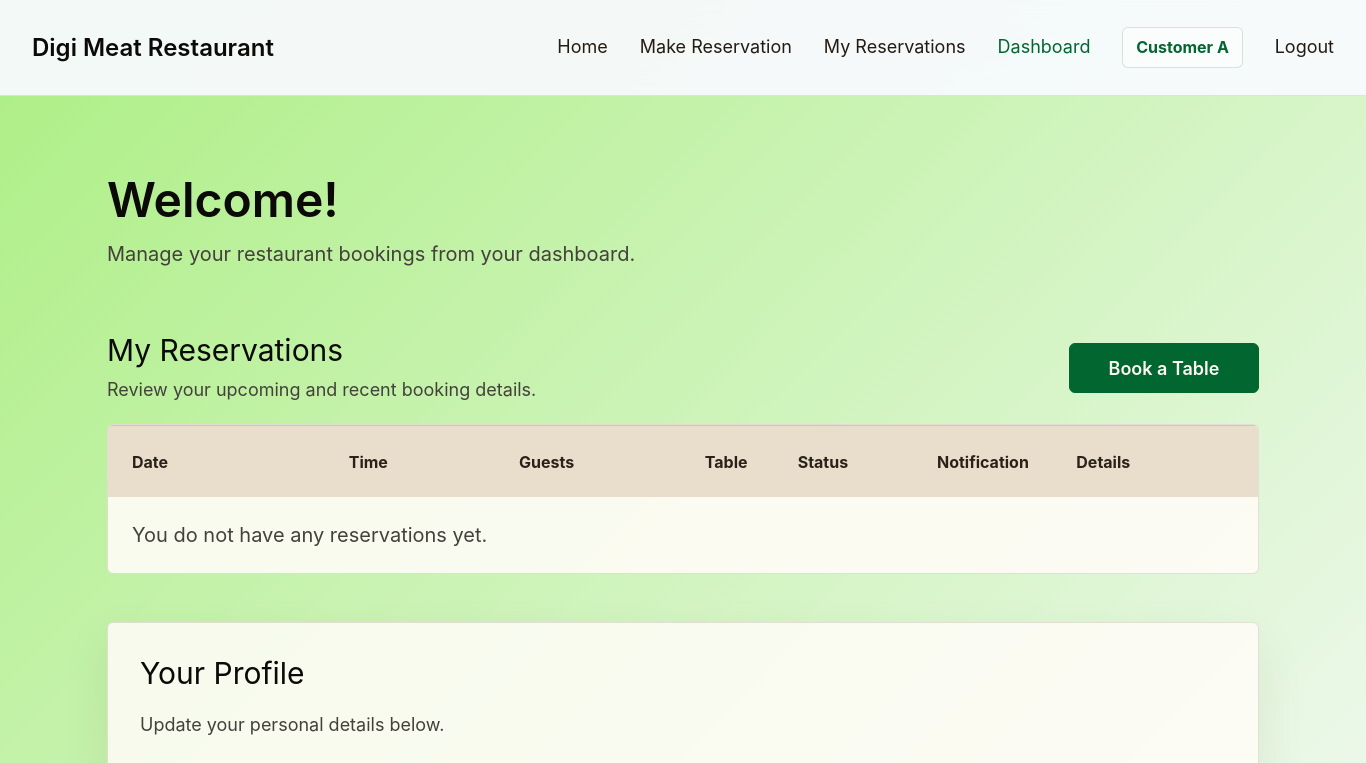
logout and protected access › customer can logout from dashboard, clearing the session and returning to login
The width and height of the screenshot is (1366, 763).
Click the button "Logout" at (1304, 48), box [1275, 33, 1334, 62]
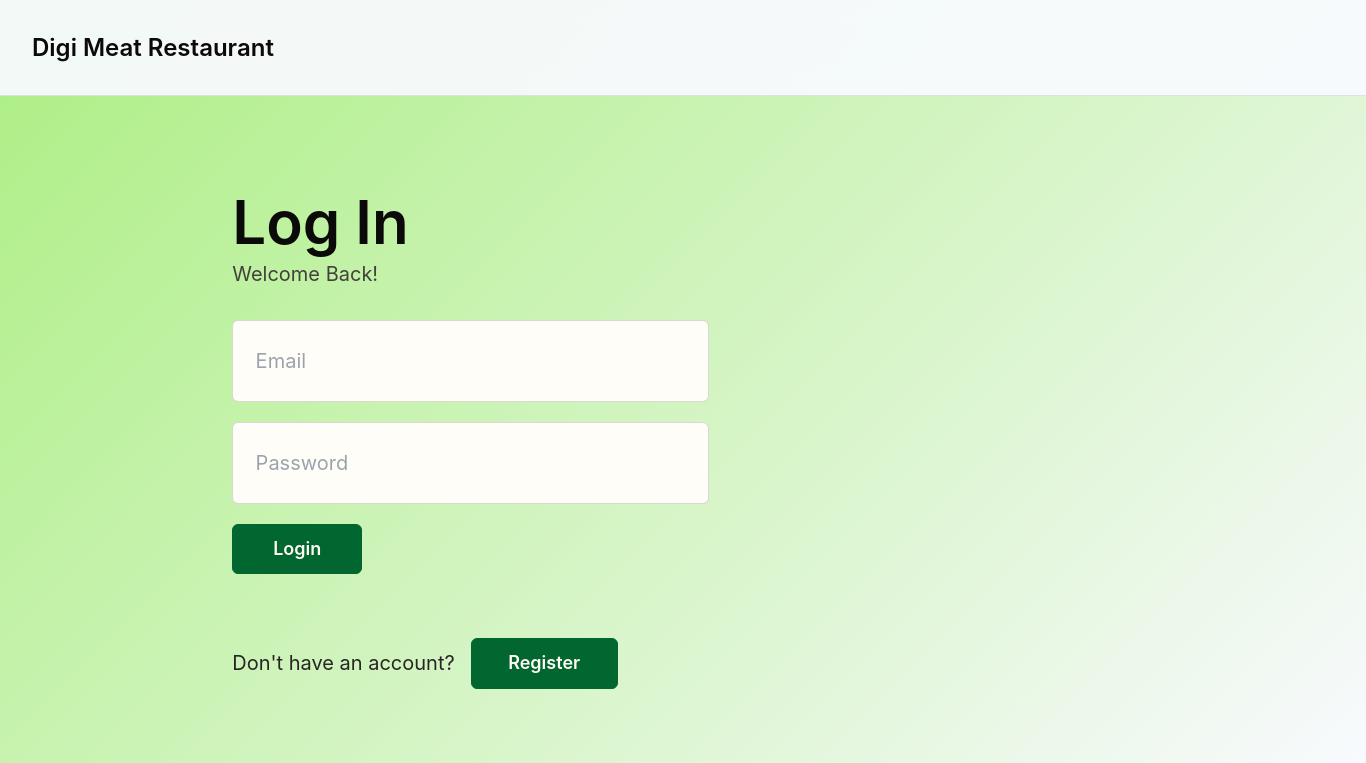
Check: the text "Log In" is shown, box [232, 186, 409, 258]
